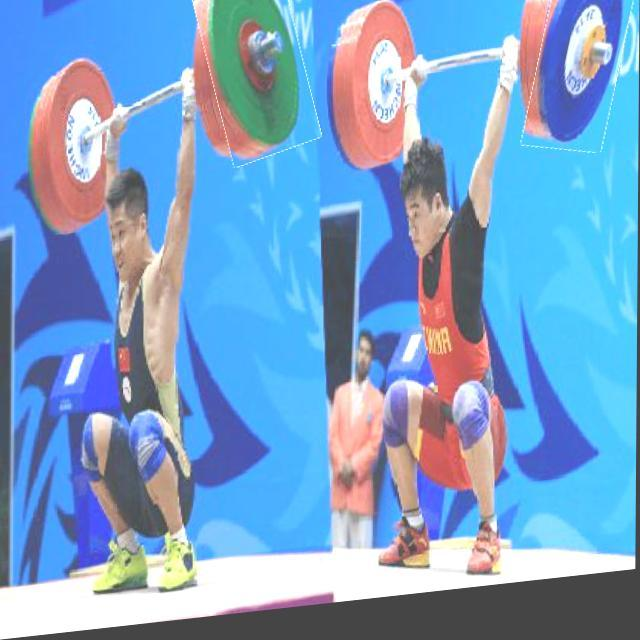barbell: (201, 1, 313, 173), (532, 1, 635, 170)
